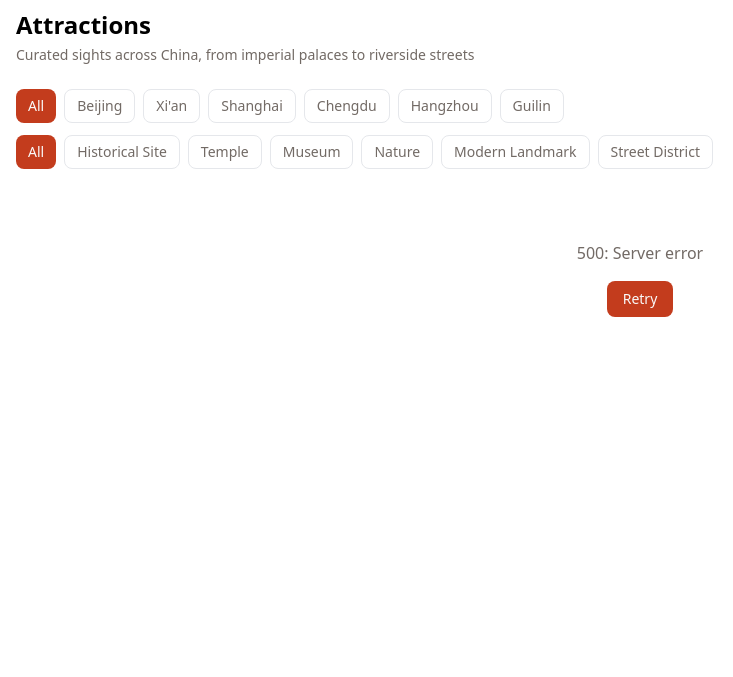
Test case: AttractionsPage › shows an error message and retries on demand
Expected: the text "500: Server error" is shown, [577,242,703,264]
Click the button "Retry": (640, 299) [607,281,673,317]
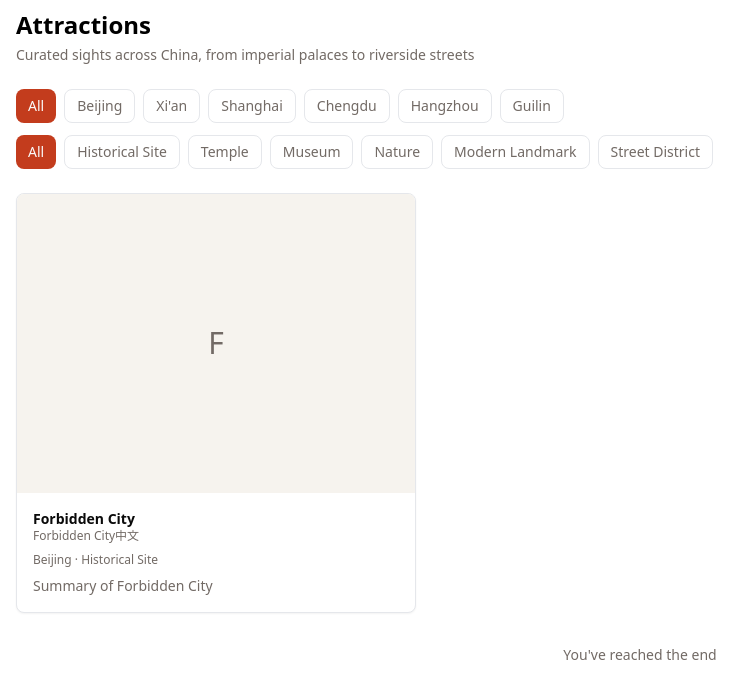
Now the heading "Forbidden City" is shown, box [33,508,139,528]
